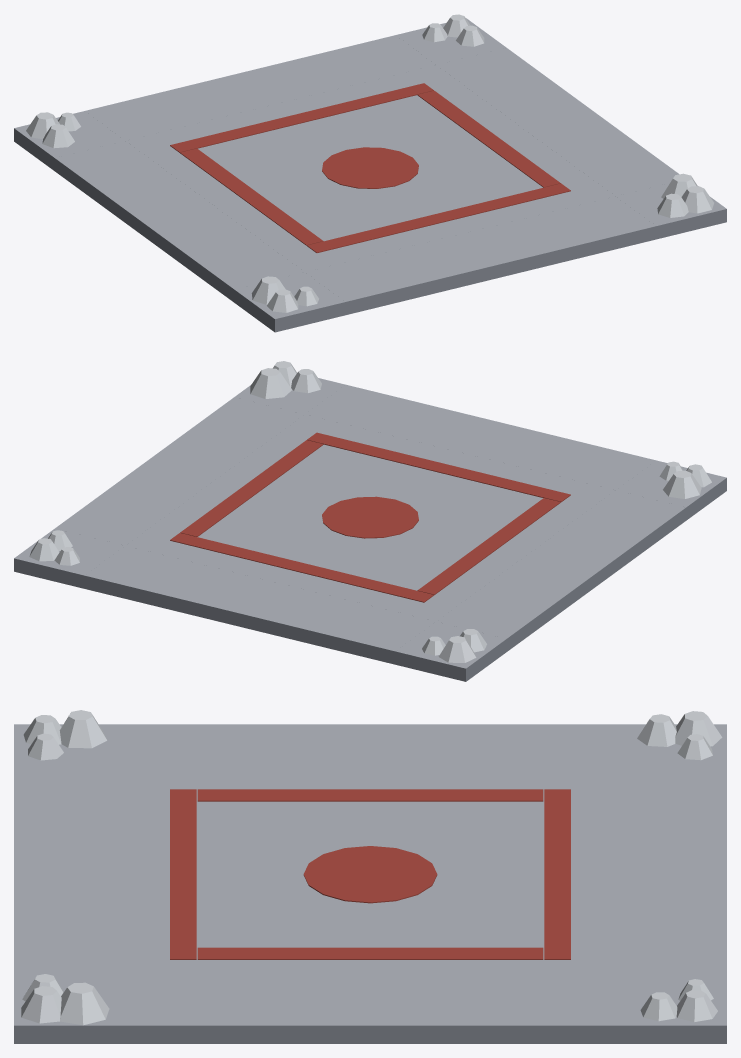
File: Plaza_Tile.glb
The picture shows the model from 3 angles, top to bottom: view 1: azimuth 30°, elevation 25°; view 2: azimuth 150°, elevation 25°; view 3: azimuth 270°, elevation 25°; orthographic projection. The views are drawn at different scales.
Parts seen in each view (by area): view 1: Plaza_Tile_Base, Plaza_Tile_Marks; view 2: Plaza_Tile_Base, Plaza_Tile_Marks; view 3: Plaza_Tile_Base, Plaza_Tile_Marks.
Part boxes in pixels (x1,y1,x2,y2): Plaza_Tile_Base: [14, 18, 726, 332]; Plaza_Tile_Marks: [26, 14, 713, 312]; Plaza_Tile_Base: [14, 378, 726, 681]; Plaza_Tile_Marks: [29, 361, 711, 662]; Plaza_Tile_Base: [14, 724, 726, 1043]; Plaza_Tile_Marks: [21, 710, 722, 1025].
Size of the model in its own units: 32 by 2.11 by 32.
